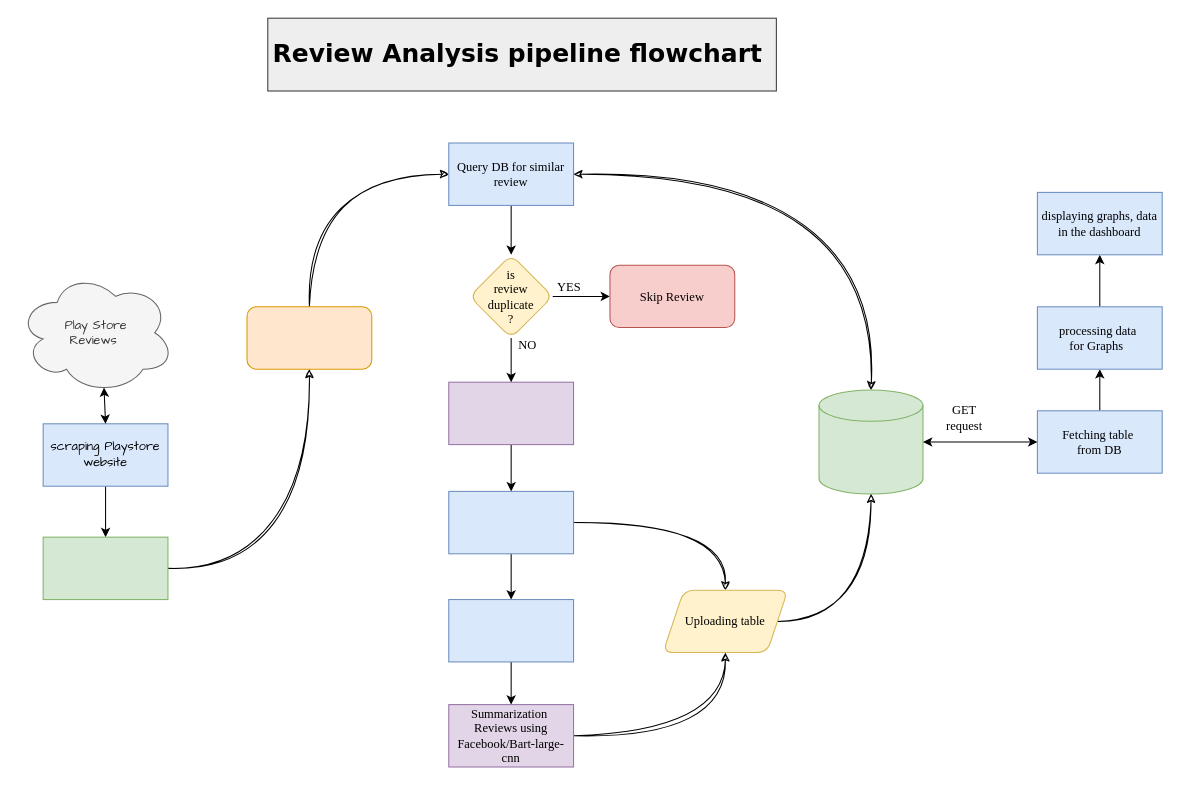
The diagram is 1180 pixels wide and 785 high, and some of its shapes have lost their labels. The shapes that lost their labels are listed below. From the top down, each one's centre as x and y in pixels, then its label:
At (x=309, y=337): "load data".
At (x=511, y=413): "Run model predict (aspects, opinions, sentiment, categories)".
At (x=870, y=441): "Supabase DB".
At (x=511, y=522): "Parse and mapping of category".
At (x=105, y=568): "storing in csv".
At (x=511, y=630): "Grouping review by categories".
